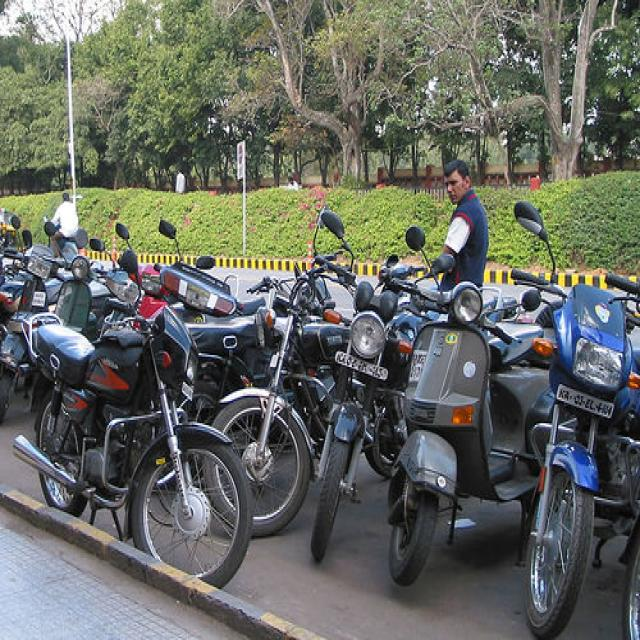motor: (11, 251, 251, 589), (310, 212, 500, 566), (385, 225, 550, 591), (506, 193, 640, 633), (208, 272, 342, 529), (175, 306, 288, 424), (2, 235, 66, 424), (155, 219, 265, 324), (55, 251, 109, 335)
